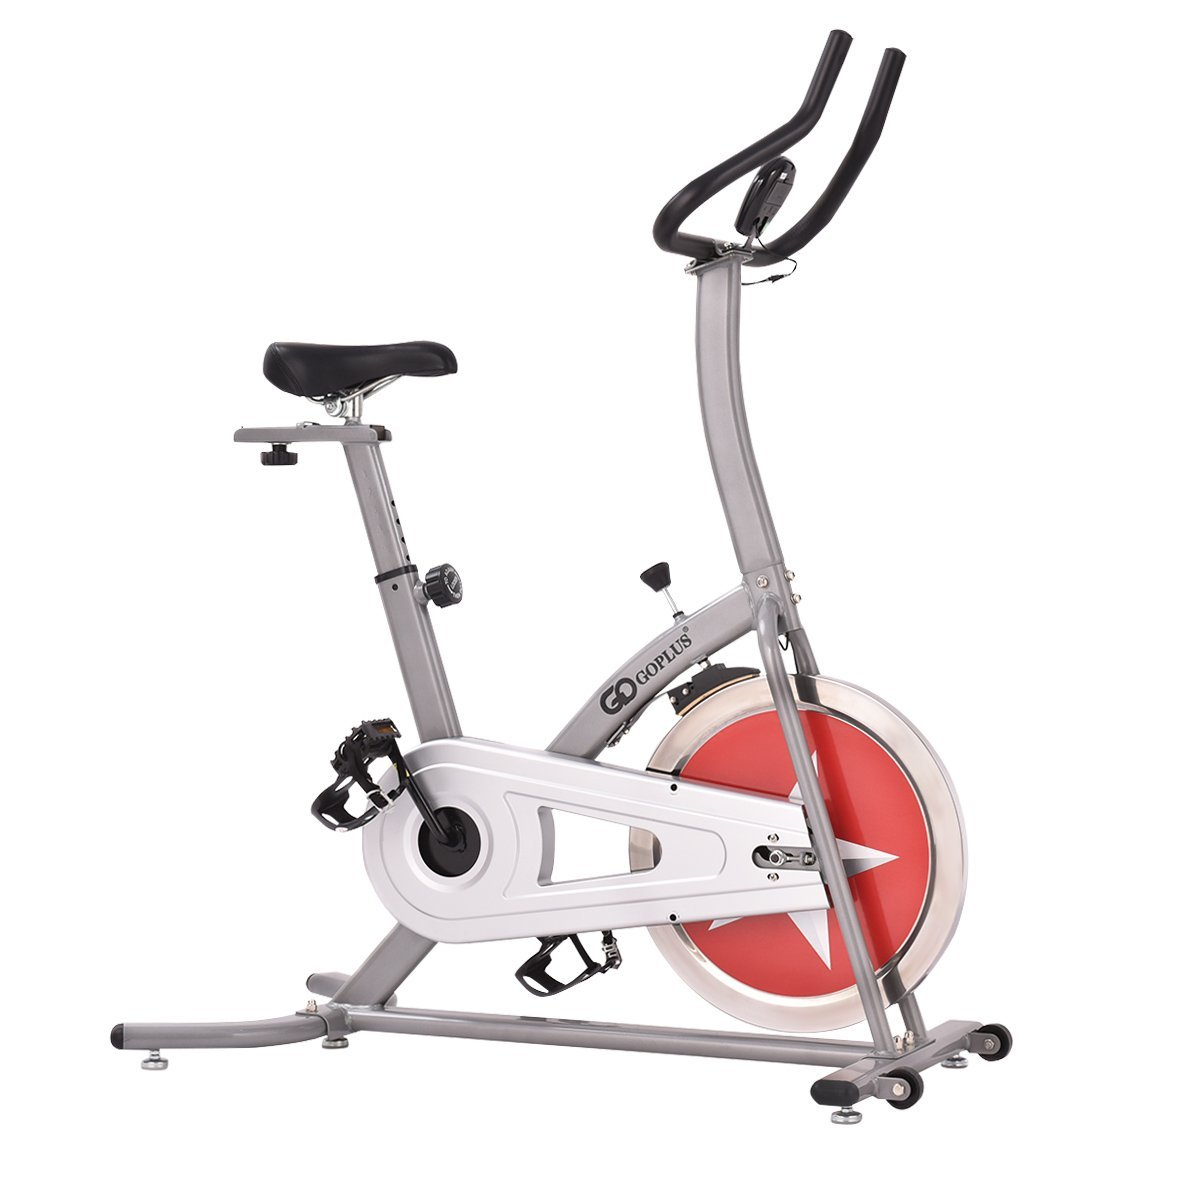gym_bike: (105, 51, 1025, 1130)
